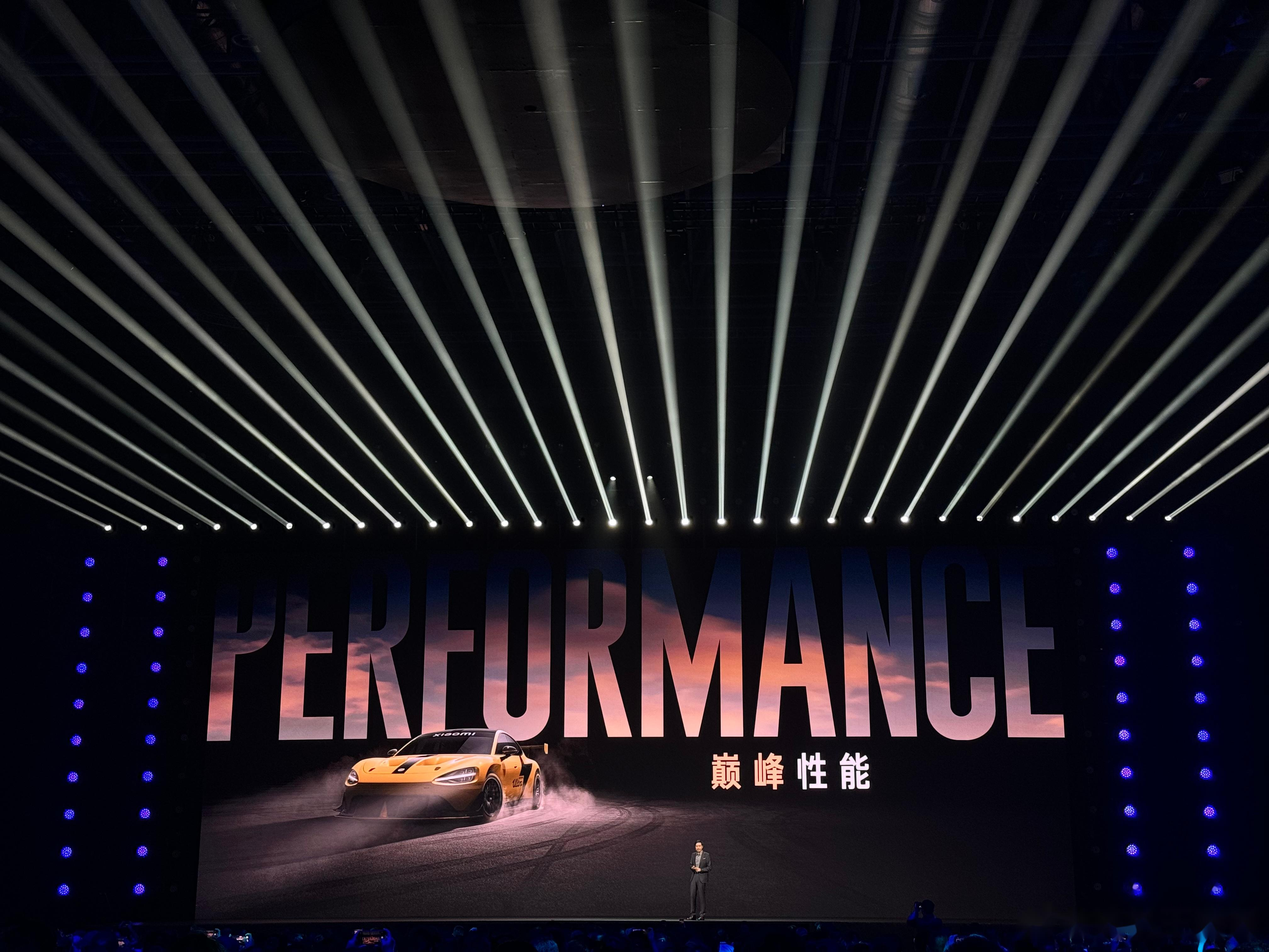su7: (346, 720, 548, 823)
